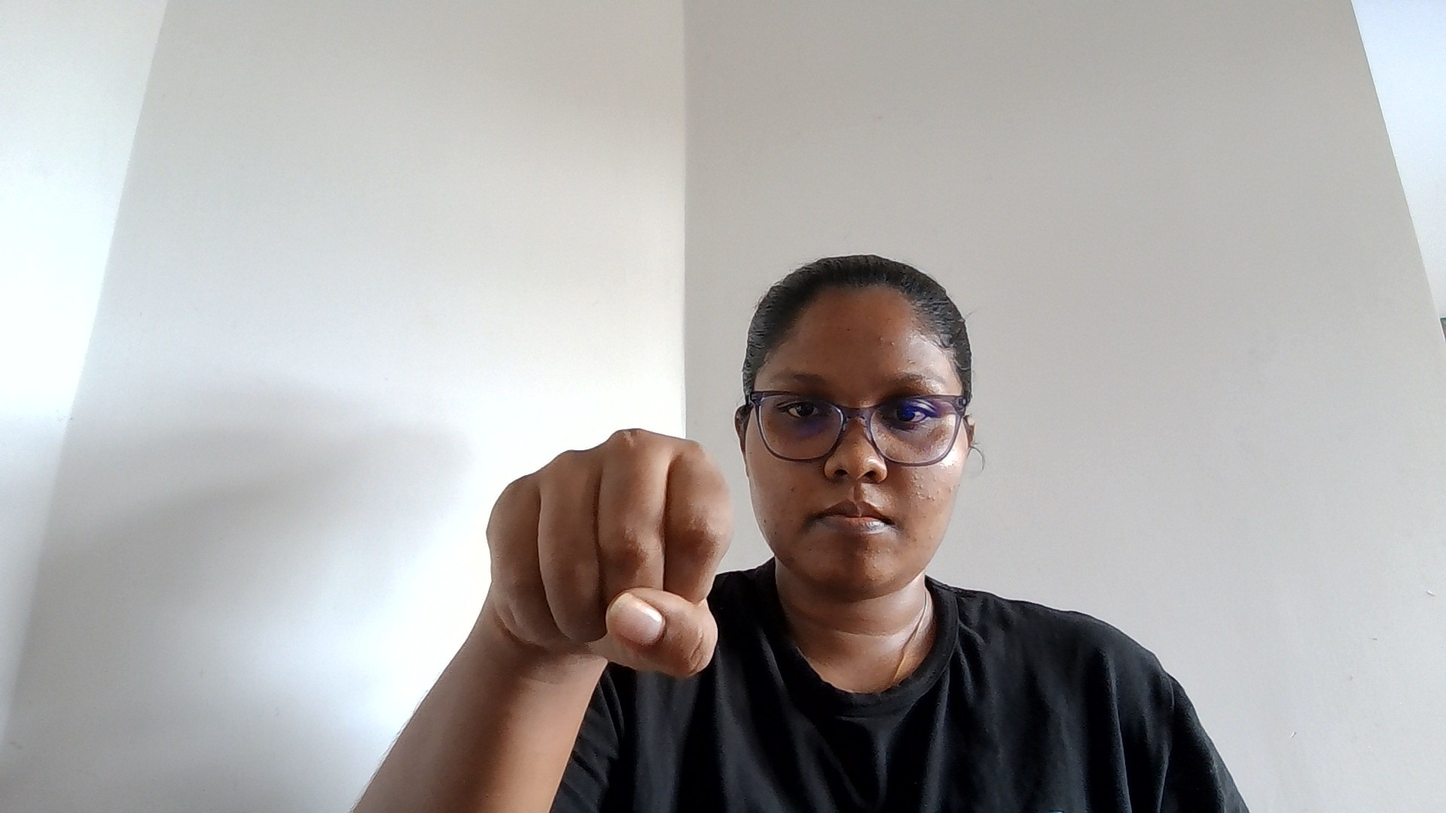Yes: (377, 333, 738, 695)
